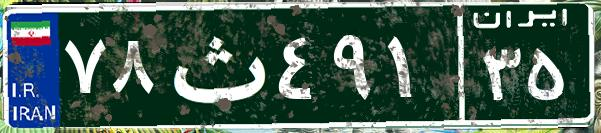1: (385, 28, 445, 110)
3: (475, 38, 525, 113)
4: (273, 28, 330, 110)
5: (525, 38, 570, 115)
7: (57, 26, 110, 107)
8: (110, 28, 158, 105)
9: (330, 28, 385, 110)
ث: (158, 15, 273, 115)
